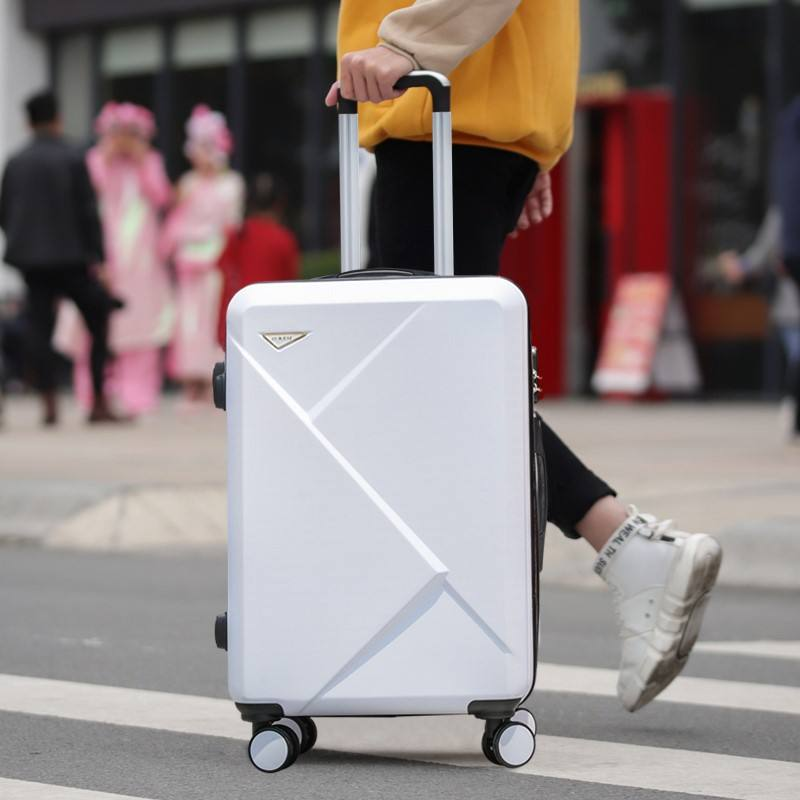box: (226, 277, 536, 717)
wheel: (481, 721, 536, 767), (249, 726, 297, 773)
